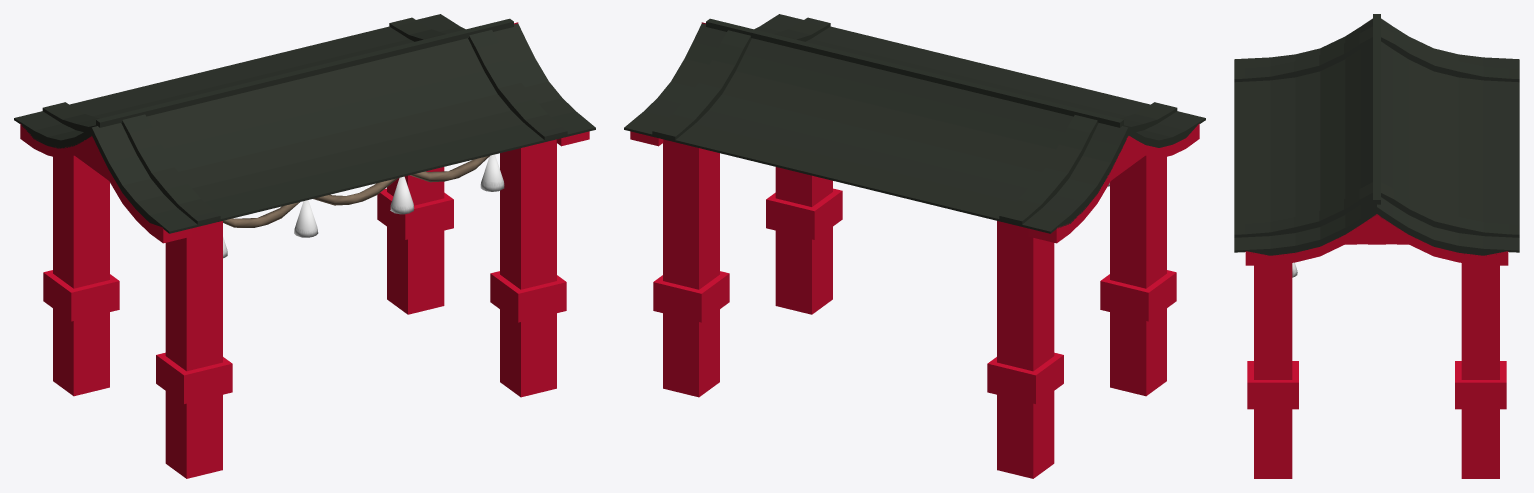
Rendered from akamon.obj.
3 renders of one model, left to right at view 1: azimuth 30°, elevation 25°; view 2: azimuth 150°, elevation 25°; view 3: azimuth 270°, elevation 25°, orthographic. The views are drawn at different scales.
Parts seen in each view (by area): view 1: 円柱.002; view 2: 円柱.002; view 3: 円柱.002.
Part boxes in pixels (x1,y1,x2,y2): 円柱.002: (14,14,595,478); 円柱.002: (624,14,1205,478); 円柱.002: (1234,14,1519,478).
Bounding box in the file's own units: 14.11 × 9.93 × 8.9.
4 materials, 4 textured.
